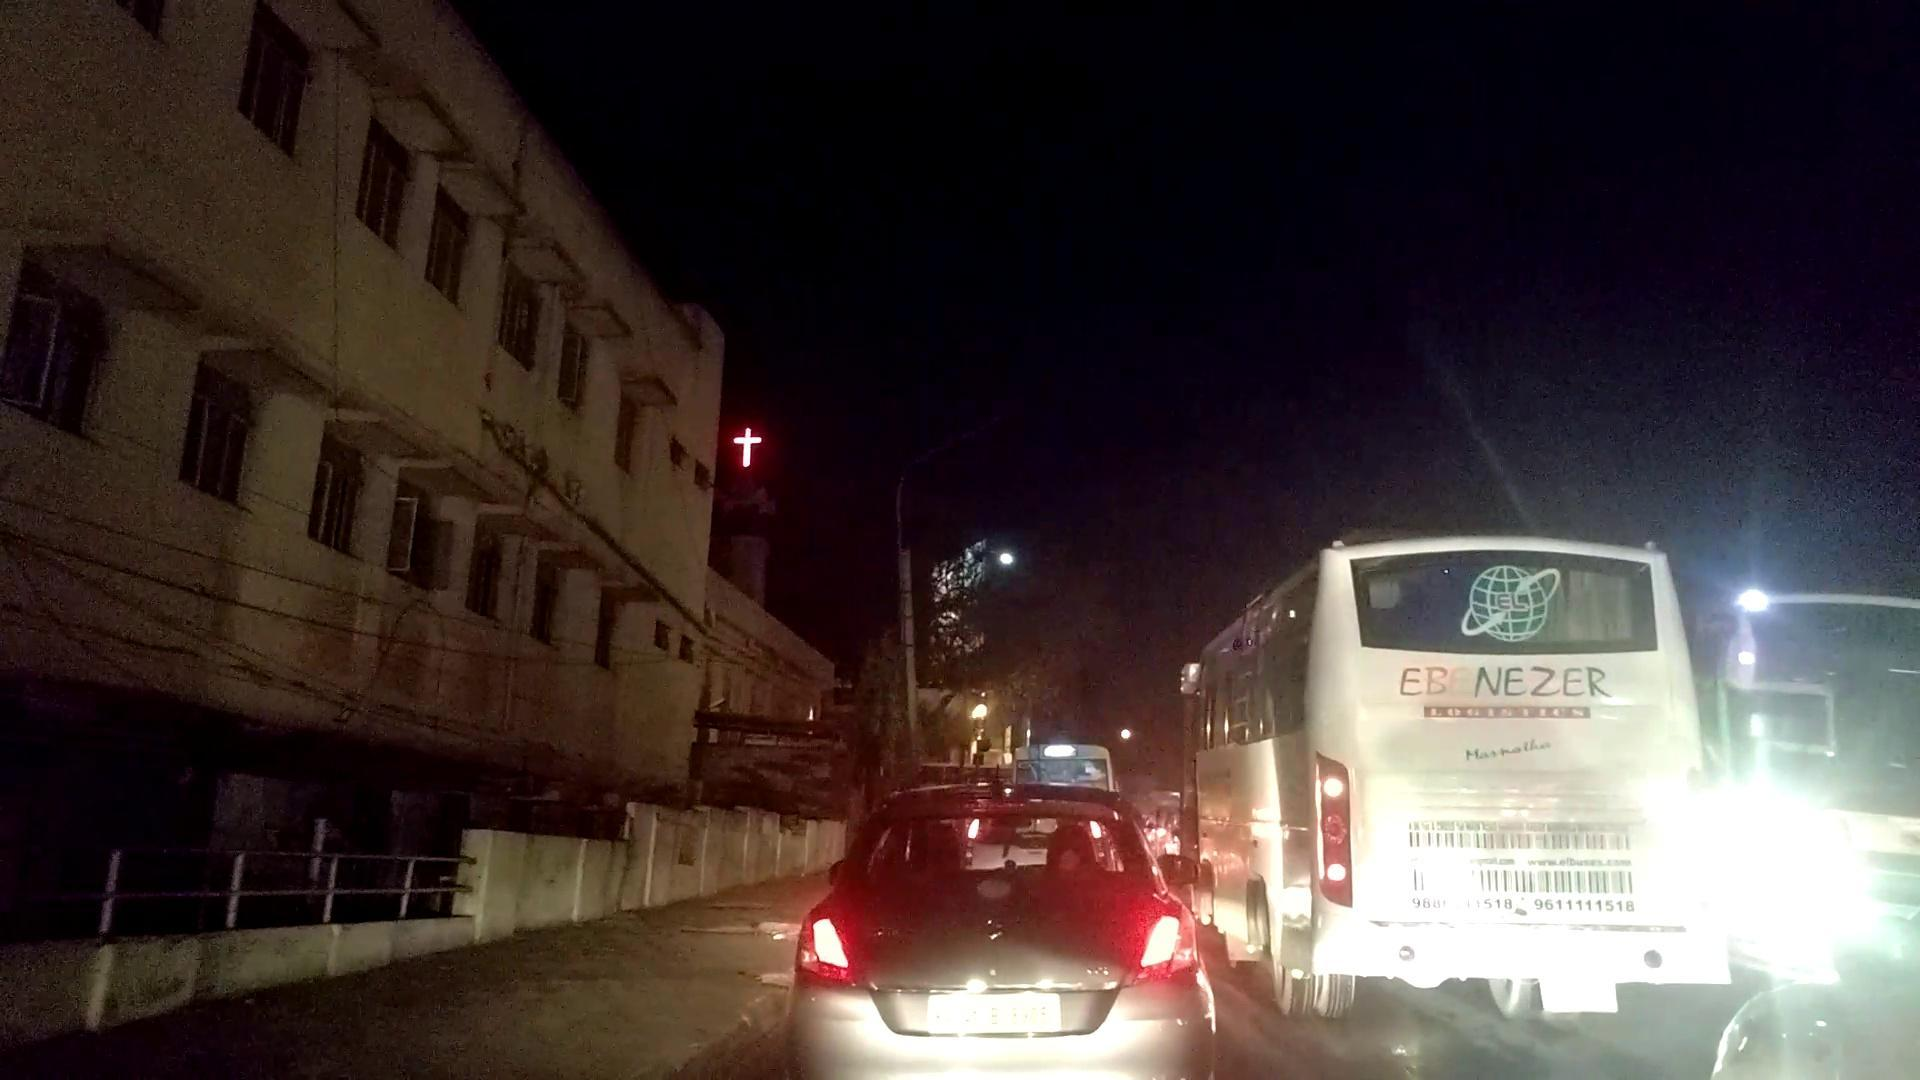on: (731, 483, 1102, 795)
